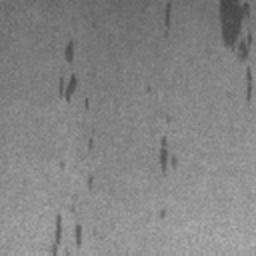Red iron sheet: (219, 0, 253, 64), (159, 136, 178, 175), (59, 73, 78, 104), (52, 214, 63, 256), (246, 65, 253, 101), (63, 41, 74, 63), (163, 3, 172, 28), (74, 224, 83, 247), (84, 97, 91, 111)
